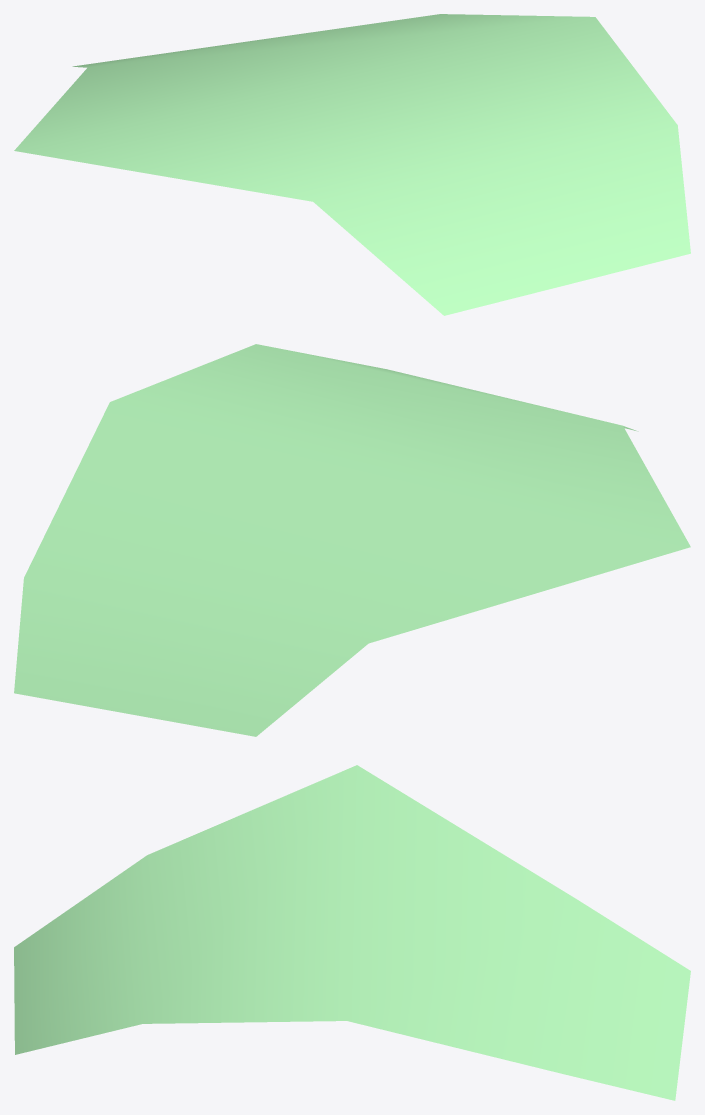
The model's file is change_3.fbx.
The picture shows the model from 3 angles, top to bottom: view 1: azimuth 30°, elevation 25°; view 2: azimuth 150°, elevation 25°; view 3: azimuth 270°, elevation 25°; orthographic projection. The views are drawn at different scales.
Visible parts, largest first — view 1: change_3; view 2: change_3; view 3: change_3.
Part boxes in pixels (box(x1,y1,x2,y2)): change_3: box(14, 14, 690, 315); change_3: box(14, 344, 690, 736); change_3: box(14, 765, 690, 1100).
Size of the model in its own units: 6.27 by 1.39 by 7.07.
